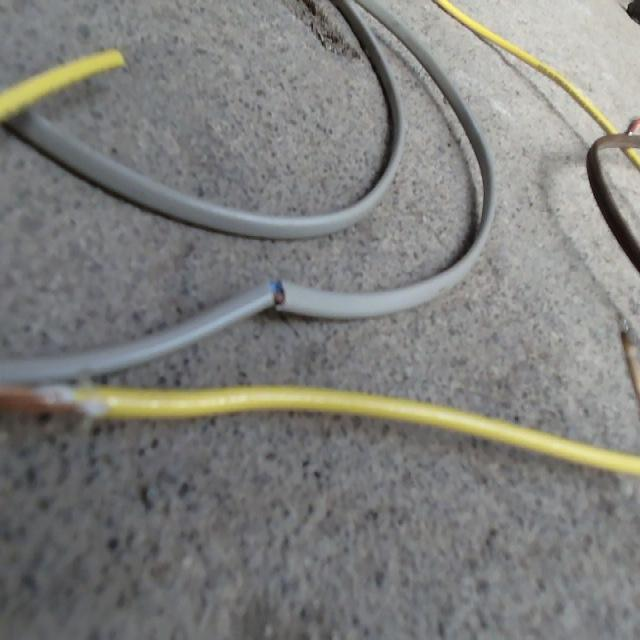-: (0, 382, 102, 418), (266, 280, 286, 308)
